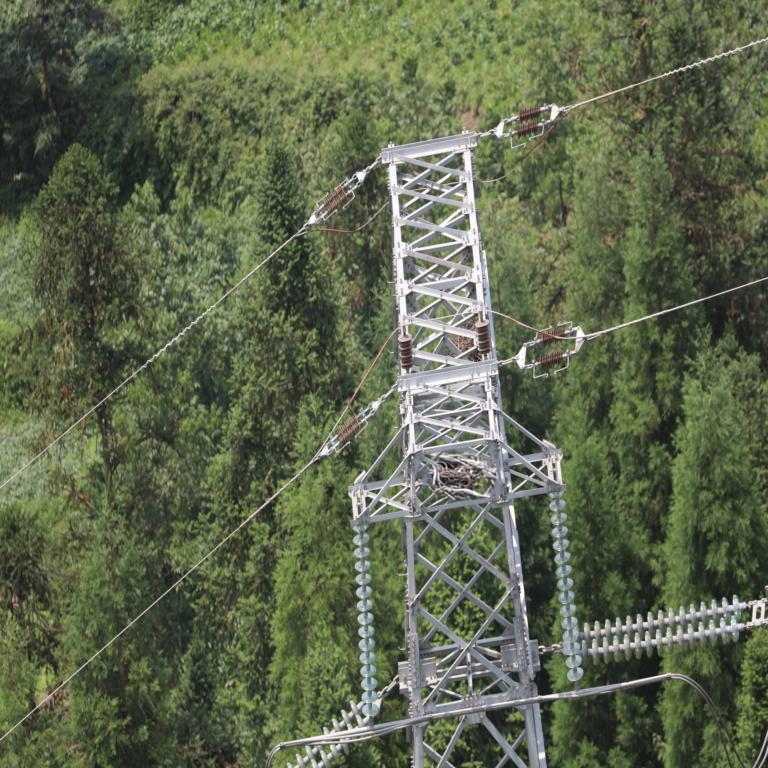nest: (430, 452, 484, 494), (458, 325, 481, 359)
